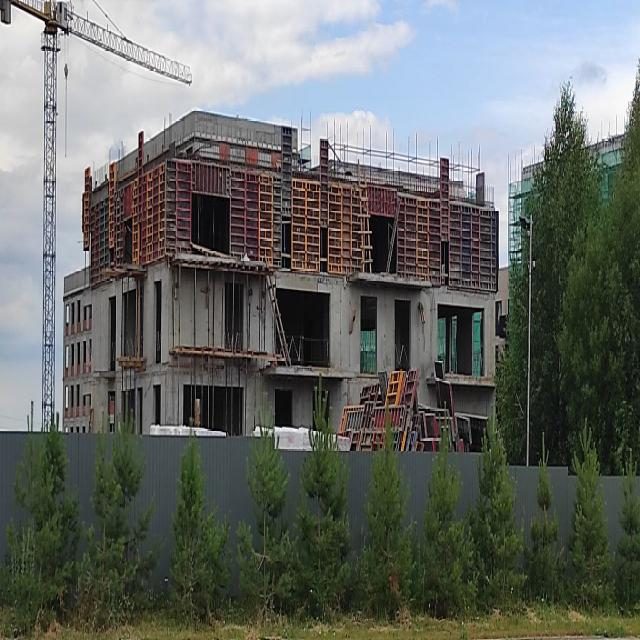Building: (91, 112, 500, 452)
